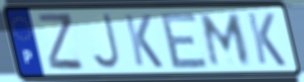E: (159, 11, 211, 71)
J: (89, 12, 123, 71)
K: (244, 11, 289, 69), (121, 13, 166, 70)
M: (199, 12, 253, 68)
Z: (36, 12, 86, 73)
